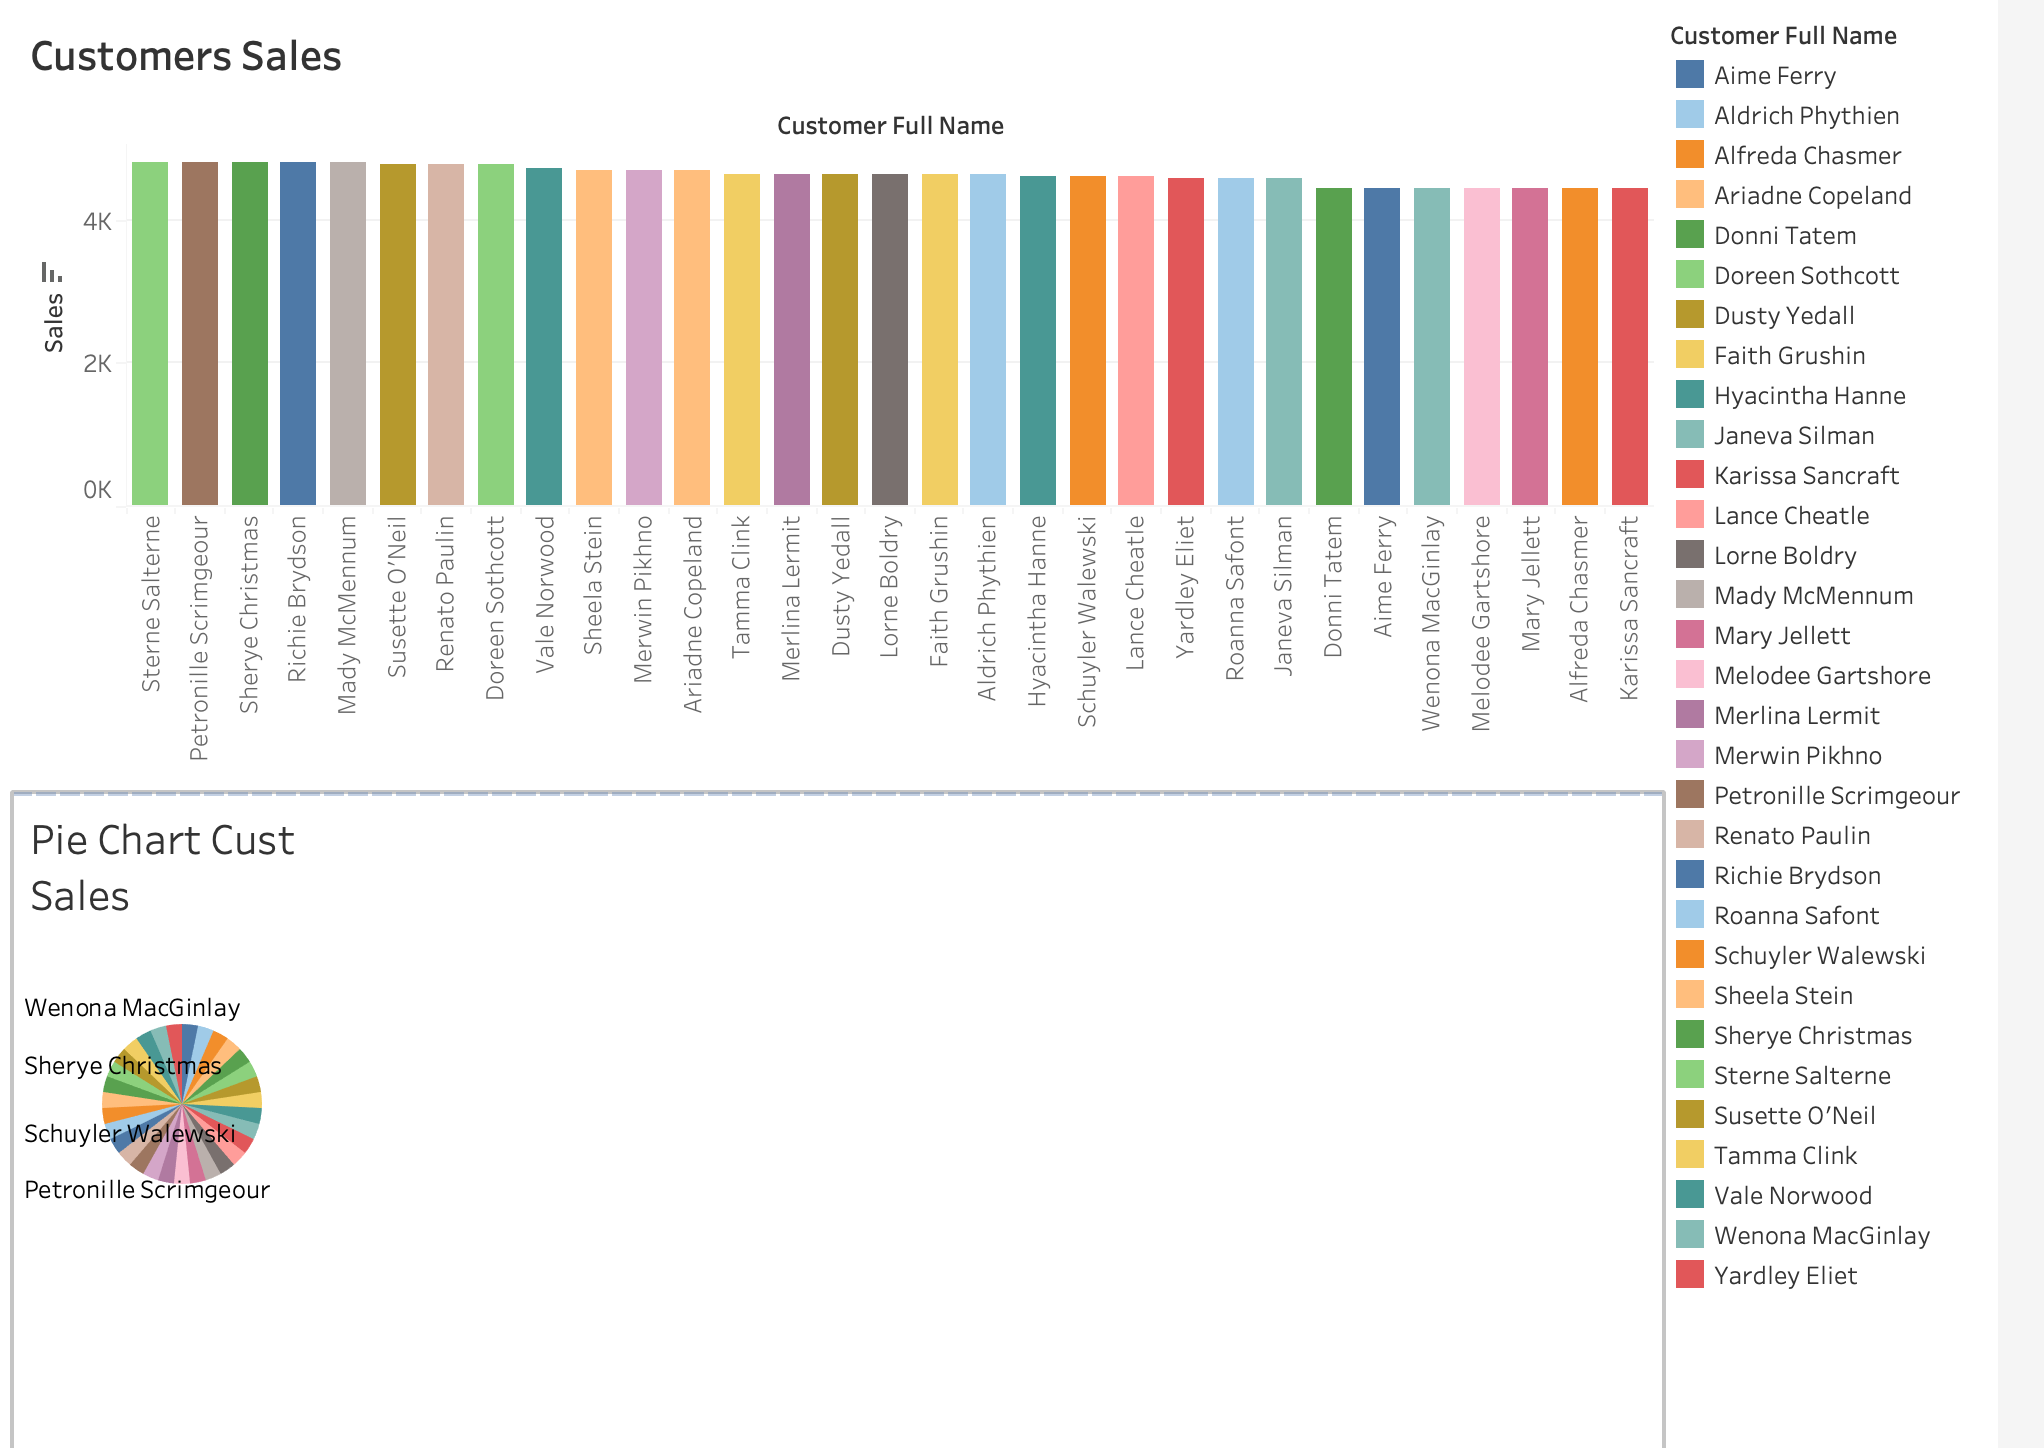

The page's visual inventory and layout, read from the dashboard file:
{"tool":"tableau","page":{"name":"Dashboard 1","canvas":[1000,800],"ordinal":0},"visuals":[{"type":"worksheet","title":"cust_sales","mark":"Automatic","rows":["Sales"],"cols":["Customer Name"],"box":[8,8,824,392]},{"type":"legend","title":"cust_sales","param":"[federated.0iukxxq165jydj1edivje0ml531g].[none:Customer Name:nk]","box":[832,8,160,646]},{"type":"worksheet","title":"pie_sales","mark":"Pie","box":[8,400,824,392]}]}

Visuals, with their boxes on the page's 1000x800 design canvas (x1, y1, x2, y2). These are canvas units, not pixel positions in the 2044x1448 screenshot, which may show the page scaled, cropped or inside an application window:
"cust_sales" worksheet: [left=8, top=8, right=832, bottom=400]
"cust_sales" legend: [left=832, top=8, right=992, bottom=654]
"pie_sales" worksheet (Pie marks): [left=8, top=400, right=832, bottom=792]
